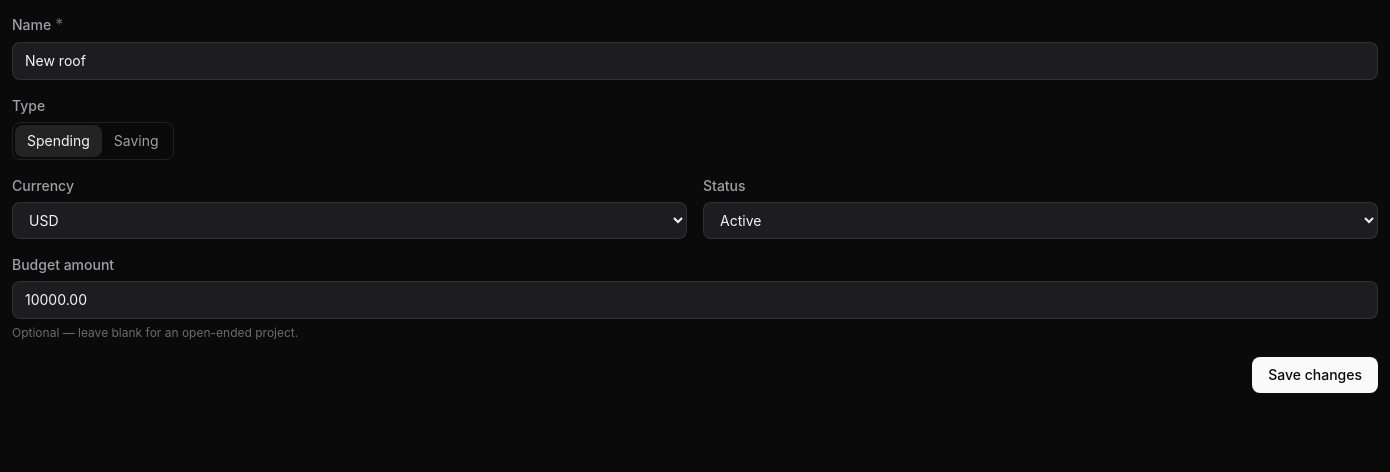
Scenario: ProjectForm — edit › shows a generic error message on failure
Click the button "Save changes".
click(1315, 375)  # box [1252, 357, 1378, 393]
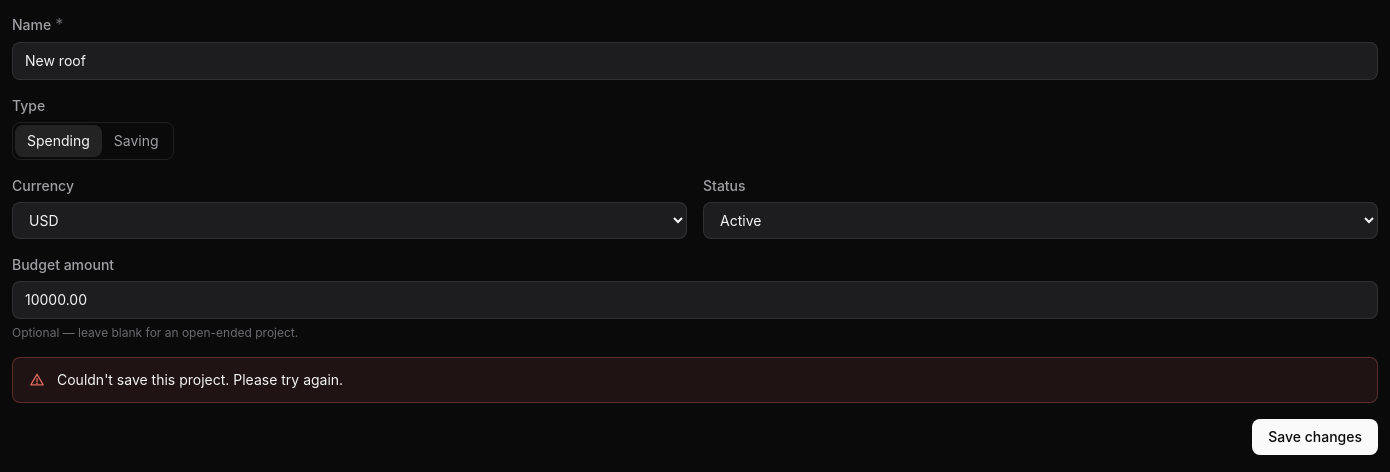
expect the message shows "Couldn't save": met, box [57, 371, 343, 388]
